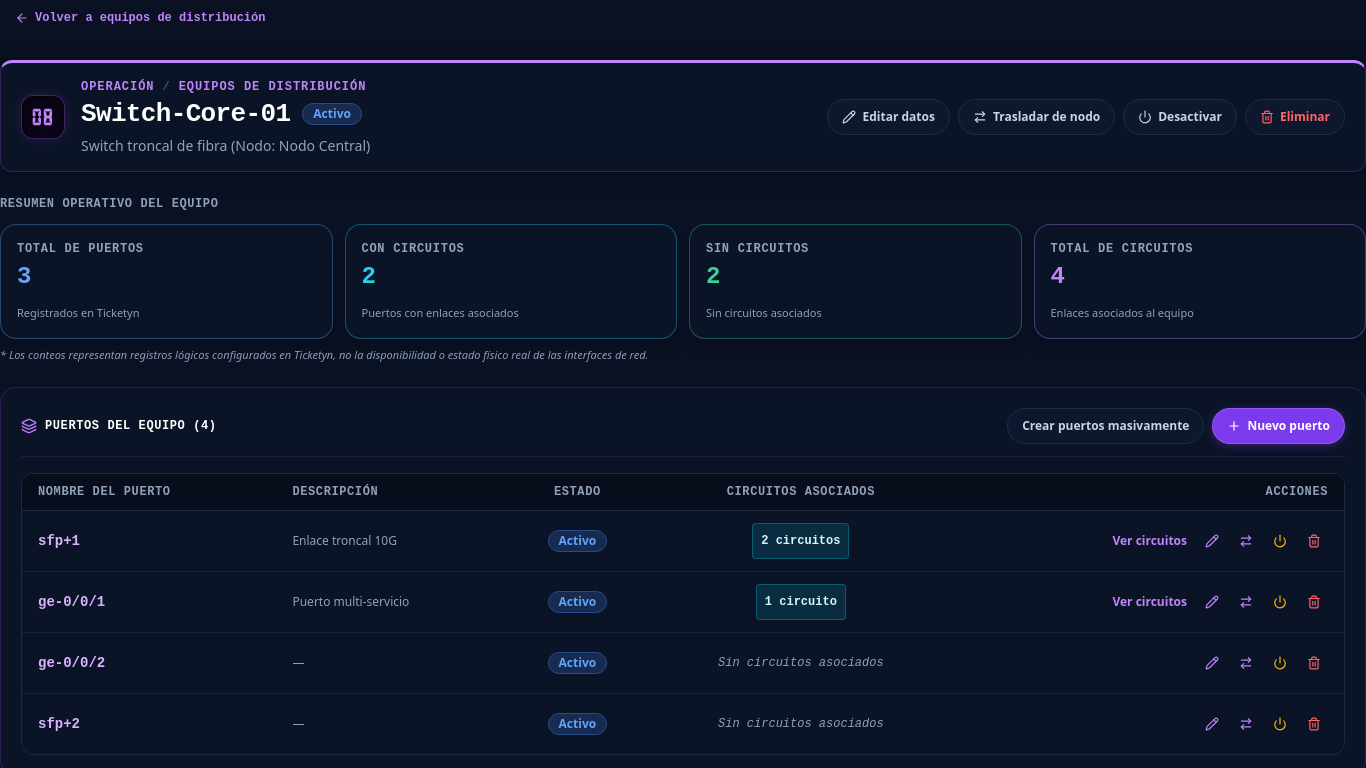
DistributionDeviceDetail — Ficha técnica y gestión de puertos › bloquea el traslado de un puerto que tiene circuitos asociados
Expected: the text "sfp+1" is shown, [38,533,80,549]
Click the button named "Trasladar puerto sfp+1".
click(1246, 541)  # box [1232,523,1260,559]
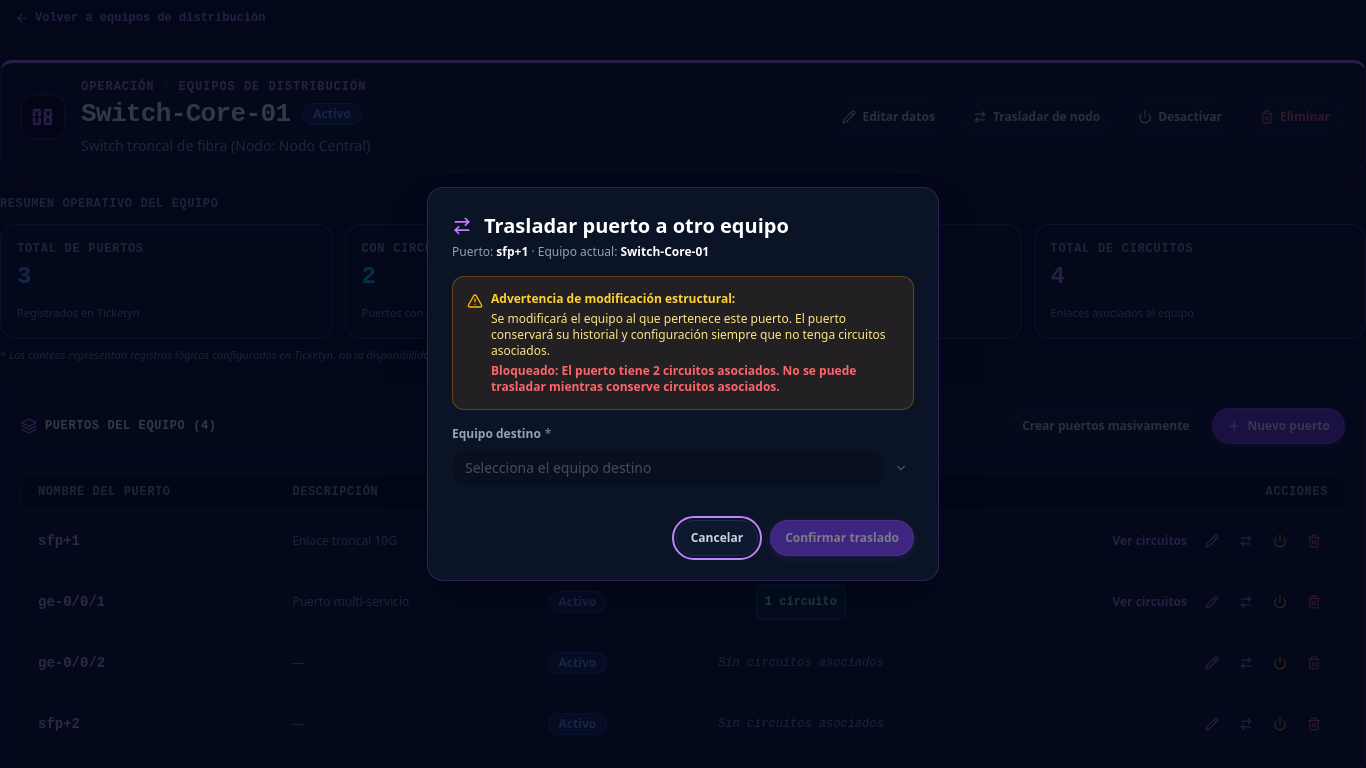
Expected: the heading "Trasladar puerto a otro equipo" is shown, [484,212,789,240]
Expected: the text "Bloqueado: El puerto tiene 2 circuitos asociados" is shown, [491,363,899,395]
Expected: the button "Confirmar traslado" is disabled, [770,520,914,556]
